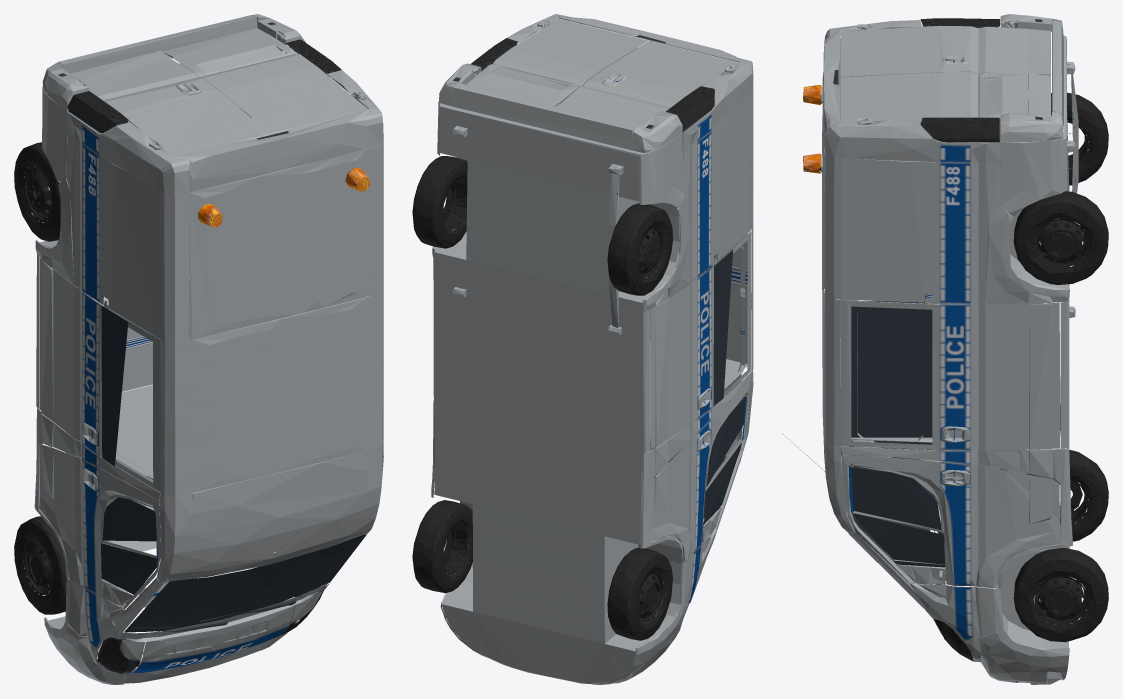
The model's file is zhihuiche.glb.
3 views of the same model, side by side, from view 1: azimuth 30°, elevation 25°; view 2: azimuth 150°, elevation 25°; view 3: azimuth 270°, elevation 25° (orthographic). The views are drawn at different scales.
Visible parts, largest first — view 1: chech; view 2: chech; view 3: chech.
Part boxes in pixels (<box>): chech: <box>14,14,383,684</box>; chech: <box>412,14,753,684</box>; chech: <box>782,14,1108,684</box>.
Size of the model in its own units: 2.08 by 5.01 by 2.51.
5 materials, 5 textured.
